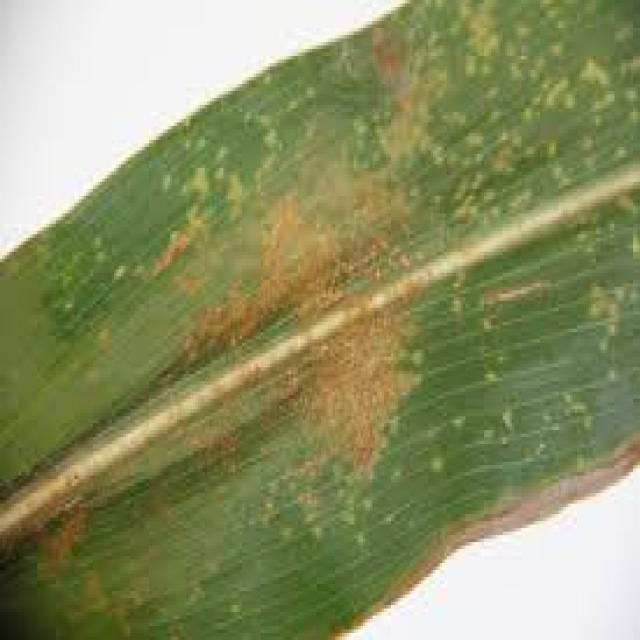Corn_Rust: (23, 21, 638, 612)
